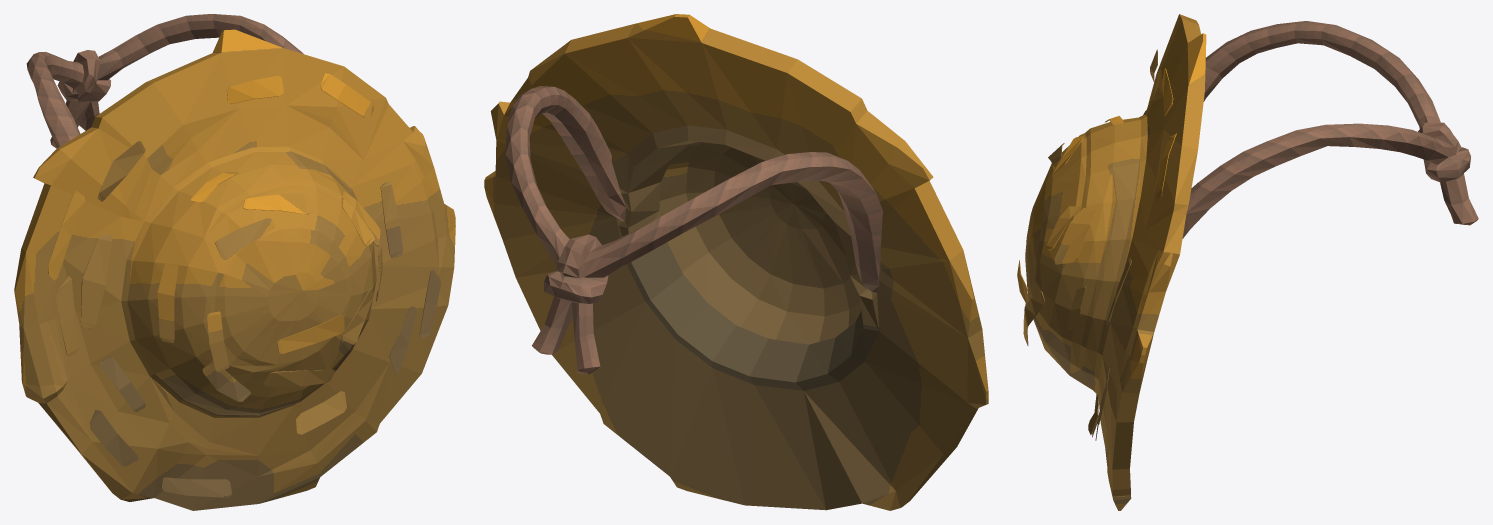
Rendered from CharSkyKid_Wing_AP31StrawHat.glb.
The picture shows the model from 3 angles, left to right: view 1: azimuth 30°, elevation 25°; view 2: azimuth 150°, elevation 25°; view 3: azimuth 270°, elevation 25°; orthographic projection. The views are drawn at different scales.
Visible parts, largest first — view 1: CharSkyKid_Wing_AP31StrawHat; view 2: CharSkyKid_Wing_AP31StrawHat; view 3: CharSkyKid_Wing_AP31StrawHat.
Boxes of the visible parts, x1=… form: CharSkyKid_Wing_AP31StrawHat: x1=14, y1=14, x2=455, y2=510; CharSkyKid_Wing_AP31StrawHat: x1=484, y1=14, x2=988, y2=510; CharSkyKid_Wing_AP31StrawHat: x1=1017, y1=14, x2=1478, y2=510.
Bounding box in the file's own units: 4.67 × 4.59 × 4.24.
1 material, 1 textured.
